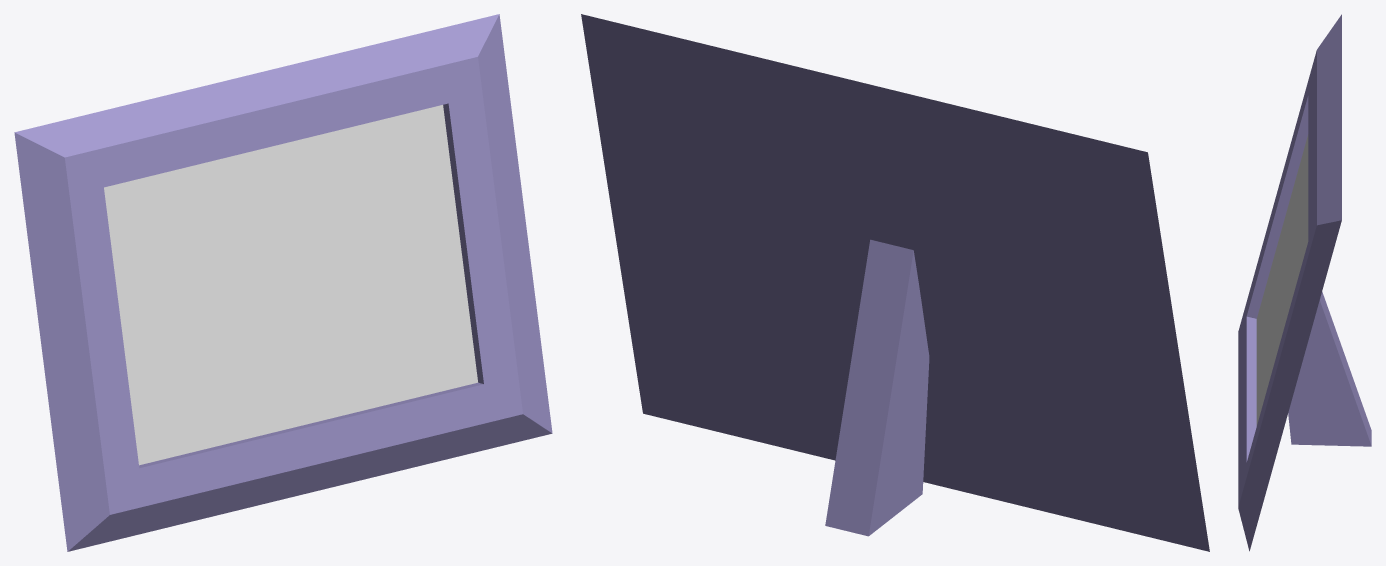
Rendered from SmPropFrame01.FBX.
3 views of the same model, side by side, from view 1: azimuth 30°, elevation 25°; view 2: azimuth 150°, elevation 25°; view 3: azimuth 270°, elevation 25° (orthographic). The views are drawn at different scales.
Parts seen in each view (by area): view 1: SmPropFrame01; view 2: SmPropFrame01; view 3: SmPropFrame01.
Boxes of the visible parts, left/top/right/bottom form: SmPropFrame01: left=14, top=14, right=552, bottom=551; SmPropFrame01: left=581, top=14, right=1209, bottom=551; SmPropFrame01: left=1238, top=14, right=1371, bottom=551.
Size of the model in its own units: 35.91 by 9.83 by 26.93.
